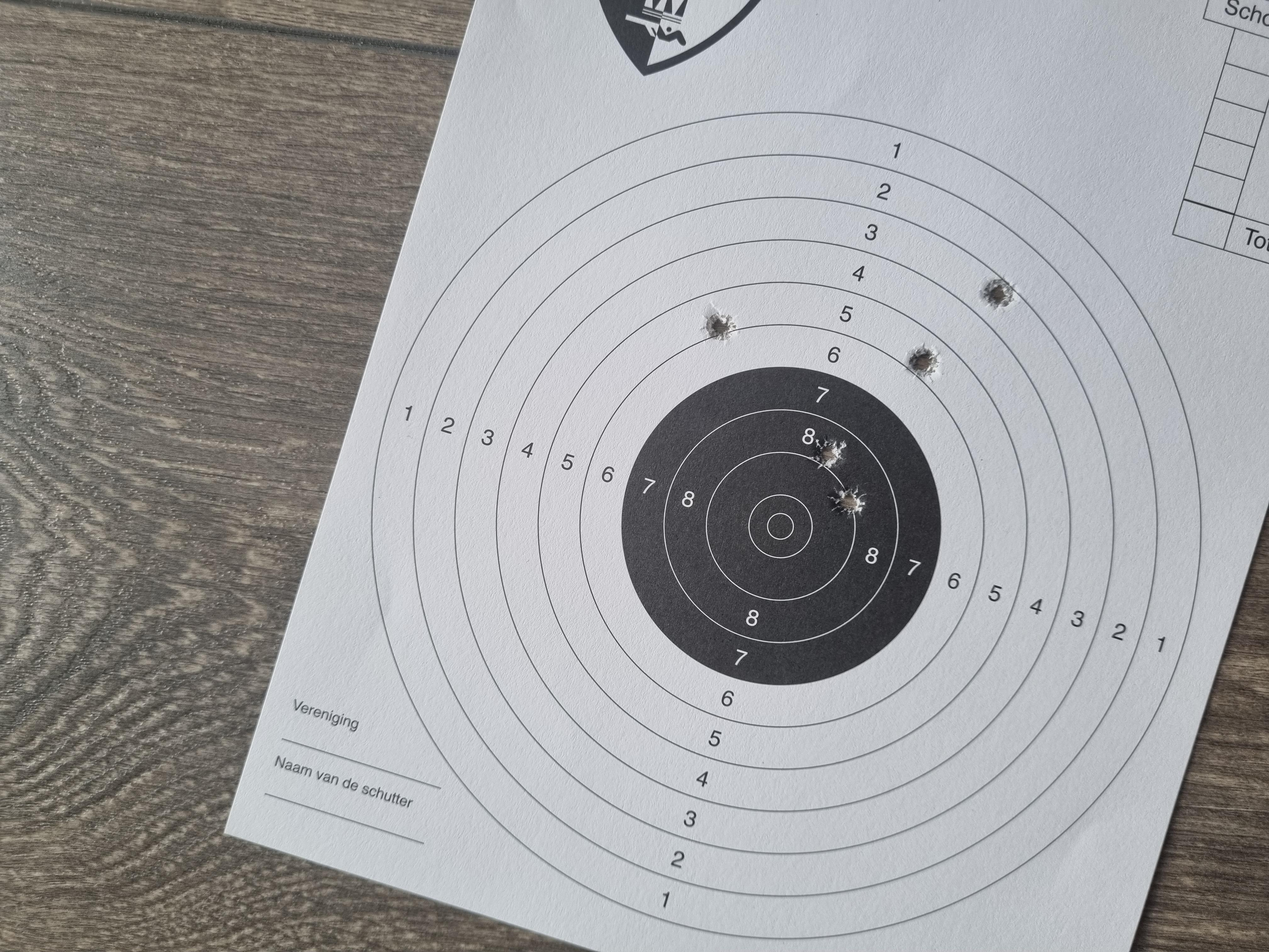hole: (577, 621, 623, 650), (642, 606, 685, 635), (857, 735, 898, 763), (765, 680, 806, 704), (813, 529, 851, 552)
